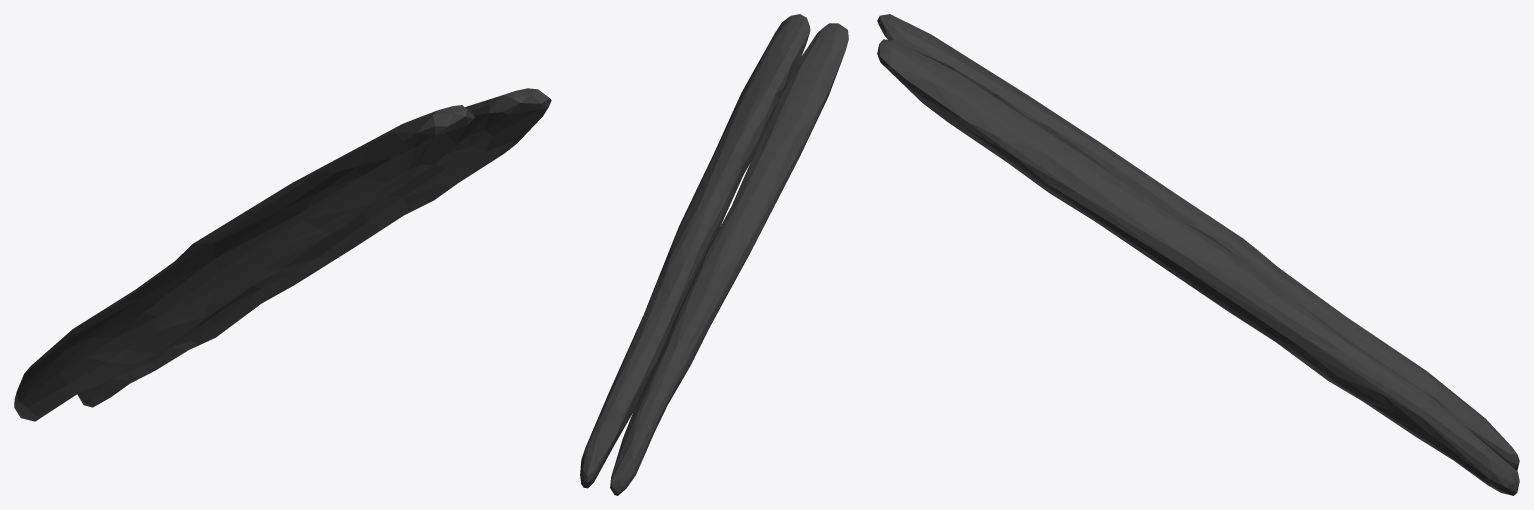
The model's file is m_rectus_capitis_dorsalis_major.glb.
3 views of the same model, side by side, from view 1: azimuth 30°, elevation 25°; view 2: azimuth 150°, elevation 25°; view 3: azimuth 270°, elevation 25° (orthographic). The views are drawn at different scales.
Parts seen in each view (by area): view 1: m_rectus_capitis_dorsalis_major; view 2: m_rectus_capitis_dorsalis_major; view 3: m_rectus_capitis_dorsalis_major.
Part boxes in pixels (x1,y1,x2,y2): m_rectus_capitis_dorsalis_major: [14, 88, 551, 421]; m_rectus_capitis_dorsalis_major: [580, 14, 848, 495]; m_rectus_capitis_dorsalis_major: [877, 14, 1519, 495].
Bounding box in the file's own units: 0.000546 × 0.0021 × 0.00269.
1 material, 1 textured.
